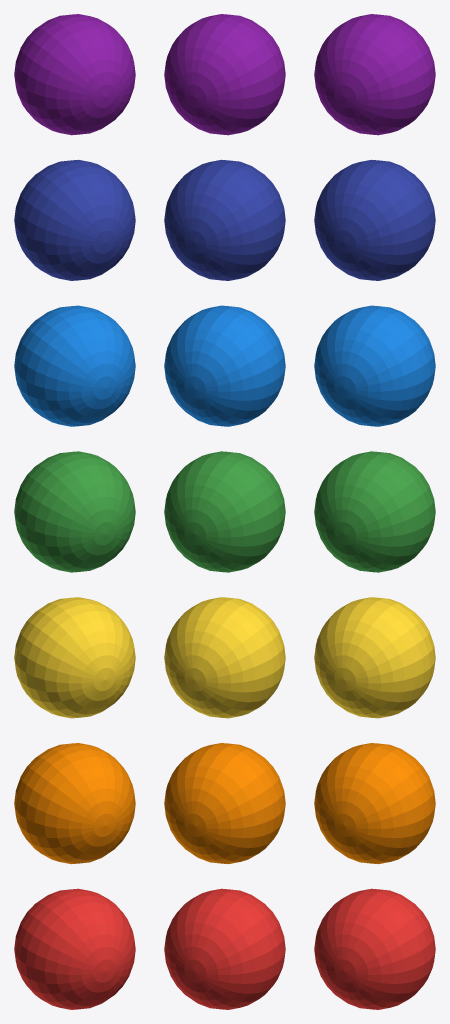
The model's file is wb_chakras.obj.
The picture shows the model from 3 angles, left to right: view 1: azimuth 30°, elevation 25°; view 2: azimuth 150°, elevation 25°; view 3: azimuth 330°, elevation 25°; orthographic projection.
Visible parts, largest first — view 1: c3, c0, c6, c1, c5, c2, c4; view 2: c3, c0, c6, c1, c5, c2, c4; view 3: c3, c0, c6, c1, c5, c2, c4.
Part boxes in pixels (<box>): c3: <box>14,451,135,572</box>; c0: <box>14,888,135,1009</box>; c6: <box>14,14,135,135</box>; c1: <box>14,743,135,864</box>; c5: <box>14,159,135,280</box>; c2: <box>14,597,135,718</box>; c4: <box>14,305,135,426</box>; c3: <box>164,451,285,572</box>; c0: <box>164,888,285,1009</box>; c6: <box>164,14,285,135</box>; c1: <box>164,743,285,864</box>; c5: <box>164,159,285,280</box>; c2: <box>164,597,285,718</box>; c4: <box>164,305,285,426</box>; c3: <box>314,451,435,572</box>; c0: <box>314,888,435,1009</box>; c6: <box>314,14,435,135</box>; c1: <box>314,743,435,864</box>; c5: <box>314,159,435,280</box>; c2: <box>314,597,435,718</box>; c4: <box>314,305,435,426</box>.
Bounding box in the file's own units: 0.6763 × 6.08 × 0.68.
